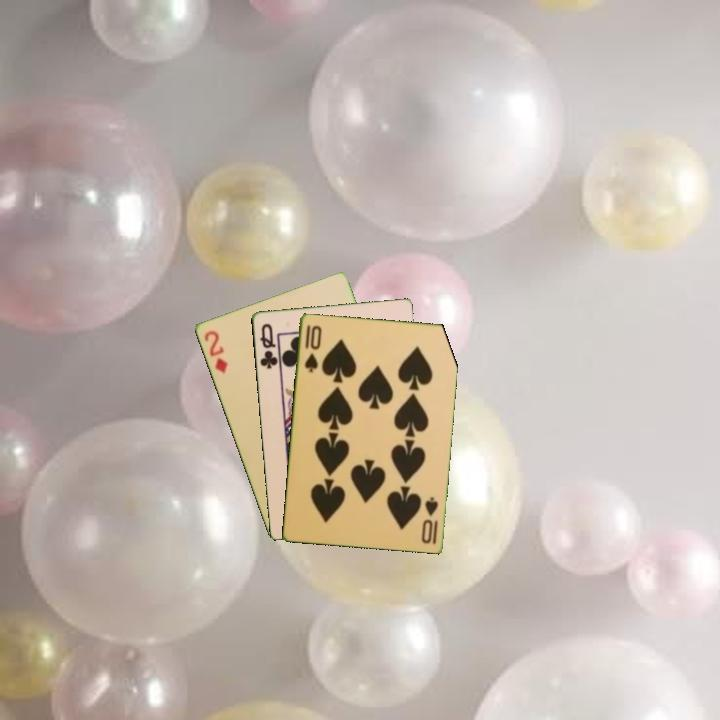10s: (300, 321, 324, 375), (418, 493, 441, 546)
2d: (200, 326, 230, 376)
Qc: (256, 320, 280, 372)
